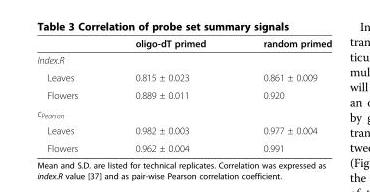table: (36, 37, 331, 153)
table column: (105, 37, 233, 153), (233, 37, 331, 153), (36, 37, 105, 153)
table column header: (36, 37, 331, 51)
table projected row header: (36, 103, 331, 121), (36, 51, 331, 68)
table row: (36, 68, 331, 86), (36, 103, 331, 121), (36, 121, 331, 139), (36, 51, 331, 68), (36, 86, 331, 103), (36, 37, 331, 51), (36, 139, 331, 153)
